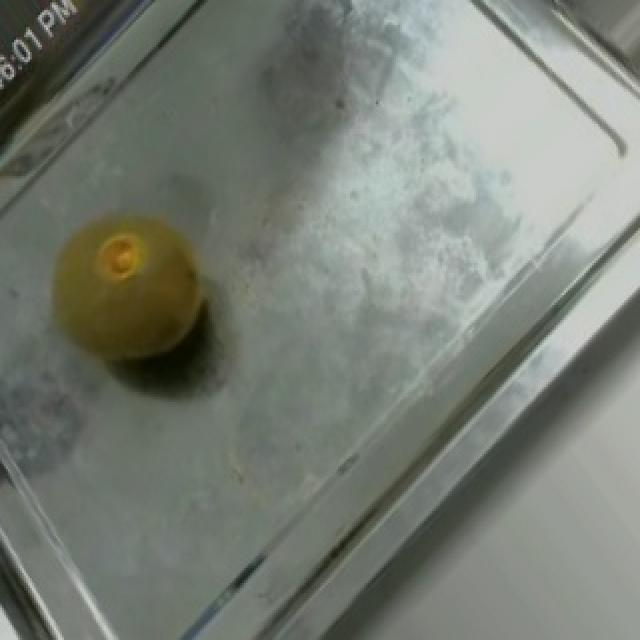Fruit: (10, 174, 244, 402)
